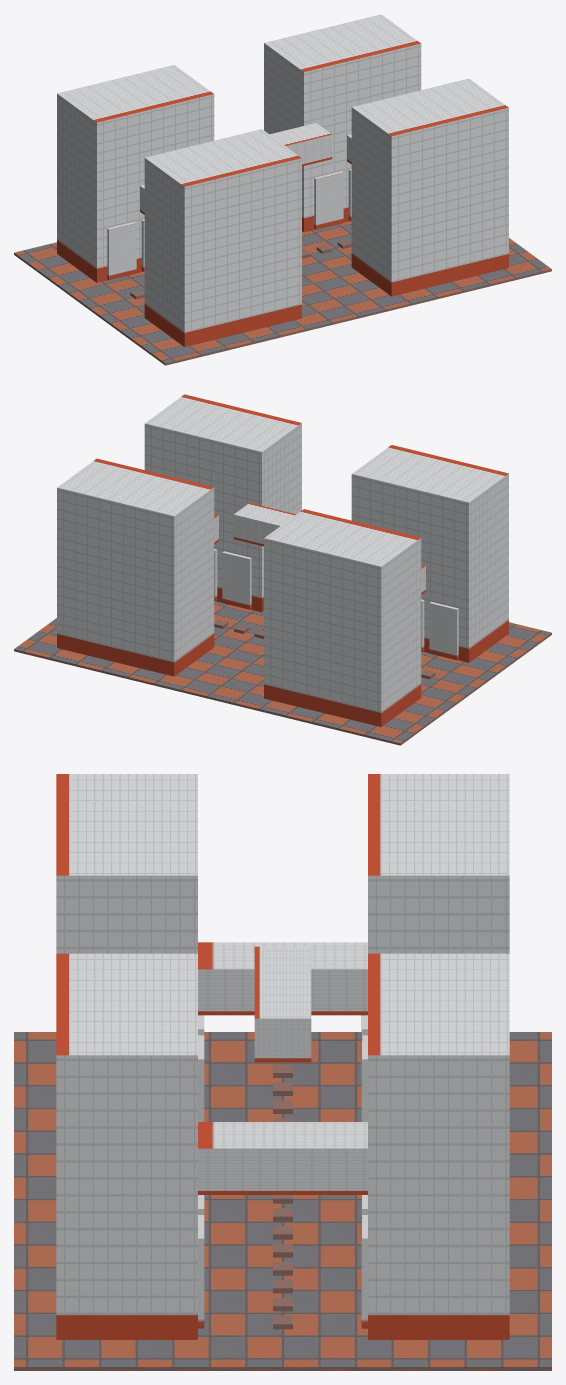
3 renders of one model, top to bottom at view 1: azimuth 30°, elevation 25°; view 2: azimuth 150°, elevation 25°; view 3: azimuth 270°, elevation 25°, orthographic. The views are drawn at different scales.
Visible parts, largest first — view 1: 28185_B11_송도_트리플스트리트; view 2: 28185_B11_송도_트리플스트리트; view 3: 28185_B11_송도_트리플스트리트.
Part boxes in pixels (x1,y1,x2,y2): 28185_B11_송도_트리플스트리트: (14,14,551,365); 28185_B11_송도_트리플스트리트: (14,394,551,745); 28185_B11_송도_트리플스트리트: (14,774,551,1370).
Size of the model in its own units: 56 by 22.5 by 38.
1 material, 1 textured.
